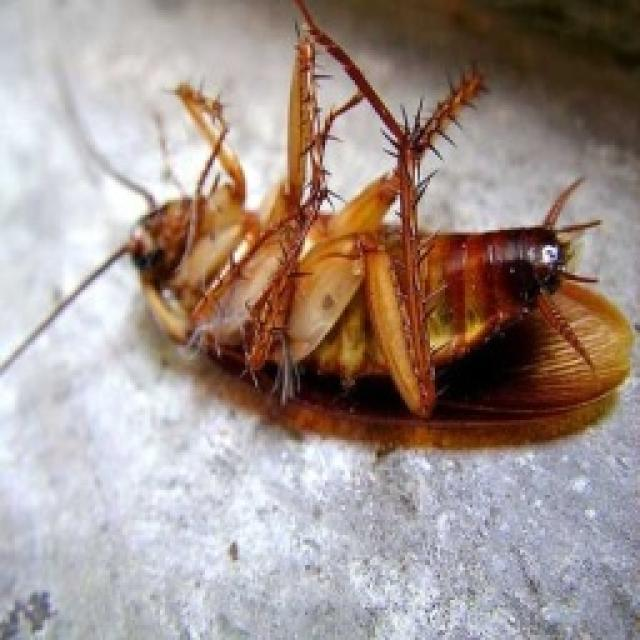cockroach: (3, 10, 633, 451)
